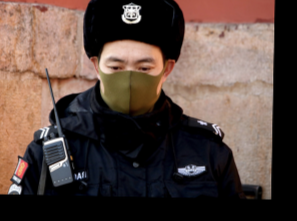with_mask: (96, 53, 162, 114)
